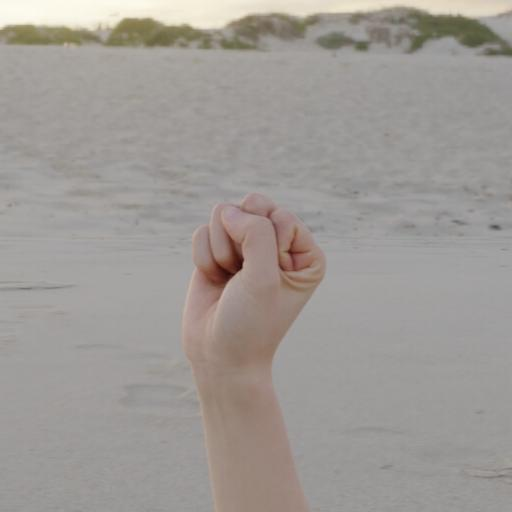S: (161, 186, 341, 500)
